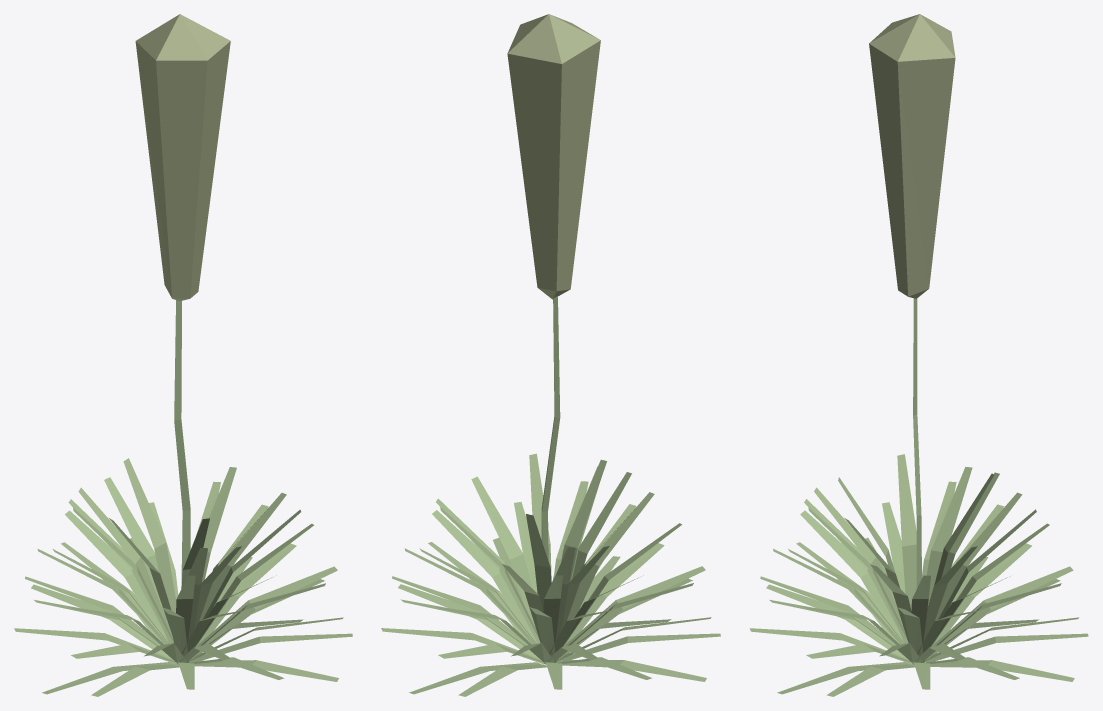
Rendered from YuccaGloriosa.glb.
3 views of the same model, side by side, from view 1: azimuth 30°, elevation 25°; view 2: azimuth 150°, elevation 25°; view 3: azimuth 270°, elevation 25° (orthographic).
Parts seen in each view (by area): view 1: Trunk, Crown; view 2: Trunk, Crown; view 3: Trunk, Crown.
Part boxes in pixels (box(x1,y1,x2,y2)): Trunk: box(14, 300, 352, 696); Crown: box(135, 14, 230, 300); Trunk: box(381, 296, 720, 696); Crown: box(507, 14, 600, 299); Trunk: box(749, 298, 1088, 696); Crown: box(869, 14, 955, 298).
Bounding box in the file's own units: 1.17 × 2.46 × 1.17.
